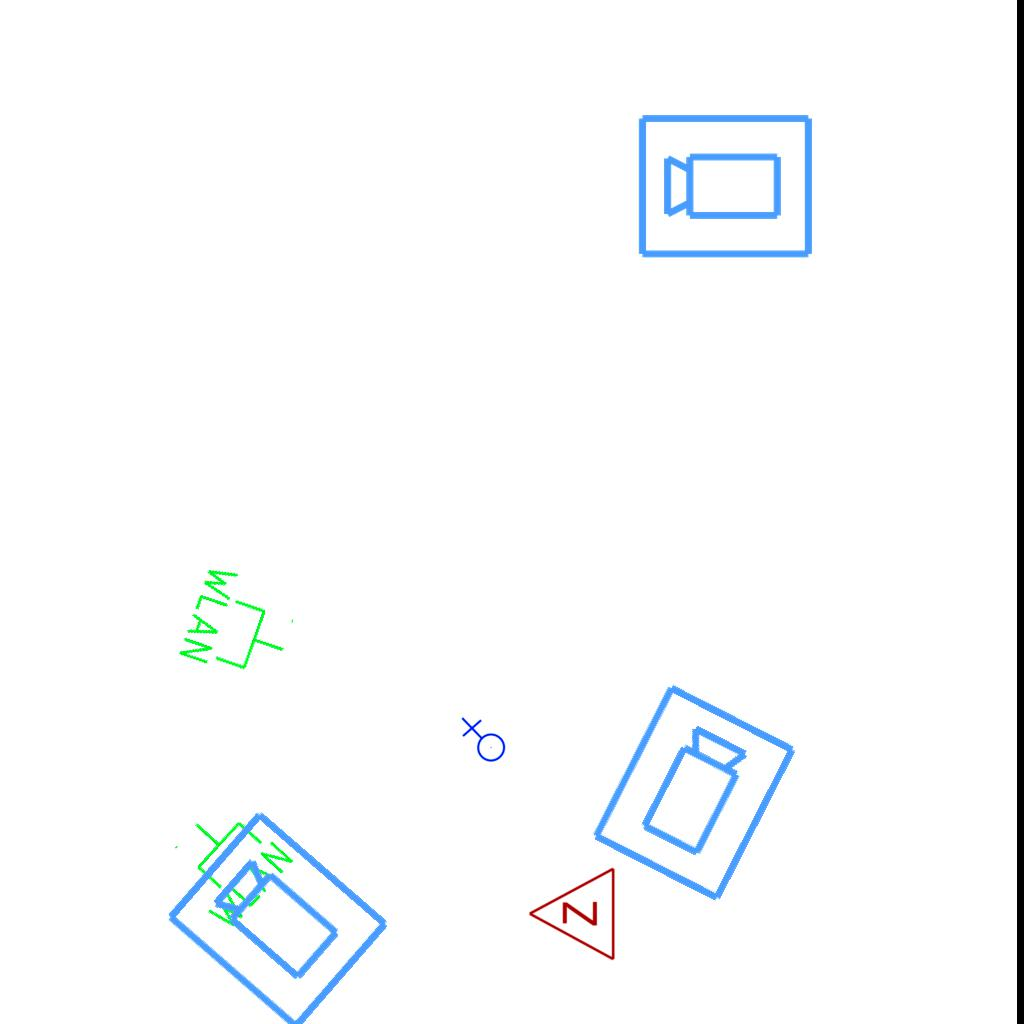Elektroanschluss_allgemein_230V_Geraeteanschlussdose_230V: (459, 717, 506, 766)
KFO_Kamera_mit_Festobjektiv: (159, 802, 399, 1024), (585, 677, 805, 911), (635, 108, 817, 262)
WLAN: (152, 790, 300, 939), (173, 557, 307, 692)
Zimmersignalleuchte: (522, 866, 622, 964)
